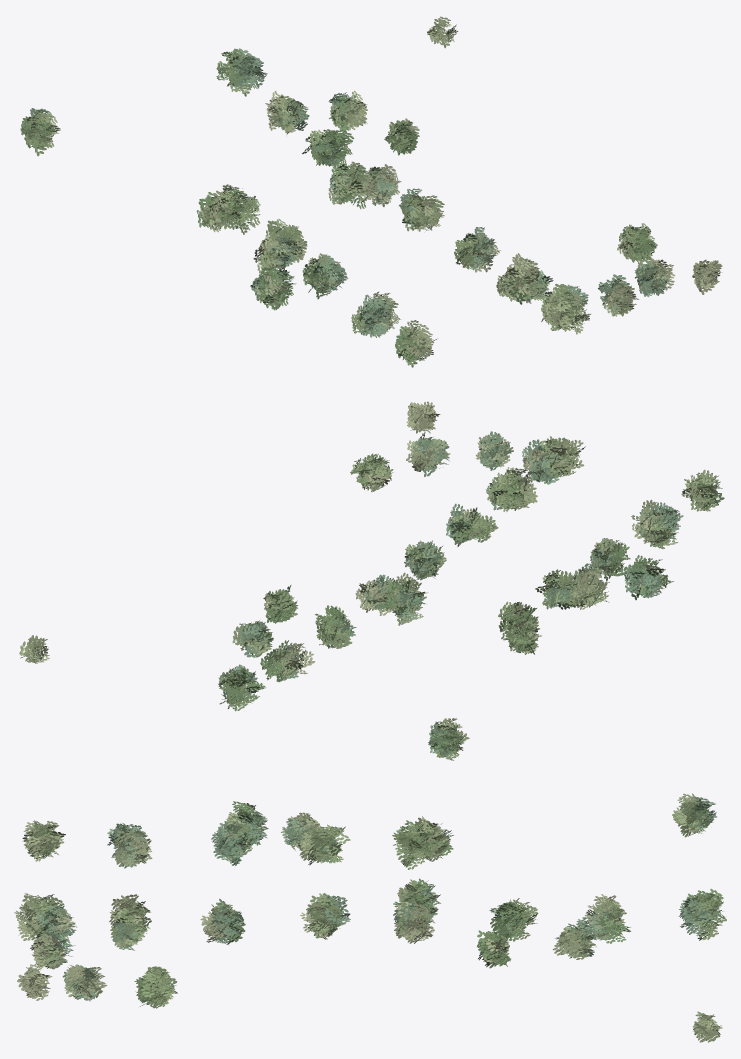
File: campus-tree-3_-2-far.glb
3 renders of one model, top to bottom at view 1: azimuth 30°, elevation 25°; view 2: azimuth 150°, elevation 25°; view 3: azimuth 270°, elevation 25°, orthographic. The views are drawn at different scales.
Visible parts, largest first — view 1: Campus leaf canopy; view 2: Campus leaf canopy; view 3: Campus leaf canopy.
Part boxes in pixels (<box>): Campus leaf canopy: <box>20,16,722,367</box>; Campus leaf canopy: <box>19,401,724,760</box>; Campus leaf canopy: <box>14,793,726,1042</box>.
Bounding box in the file's own units: 62.55 × 7.49 × 84.01.
Materials: 1 (1 with a texture image).
